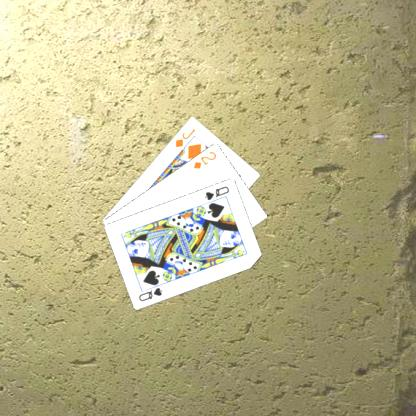2D: (191, 148, 218, 170)
JD: (172, 125, 197, 149)
QS: (202, 183, 231, 201), (136, 284, 164, 302)
